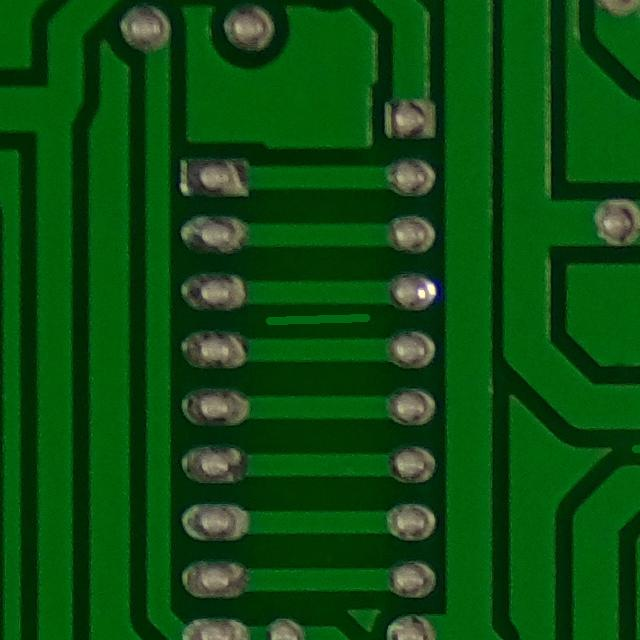spurious_copper: (255, 294, 385, 347)
